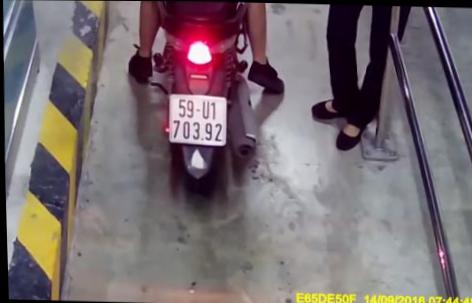LP: (166, 92, 227, 145)
